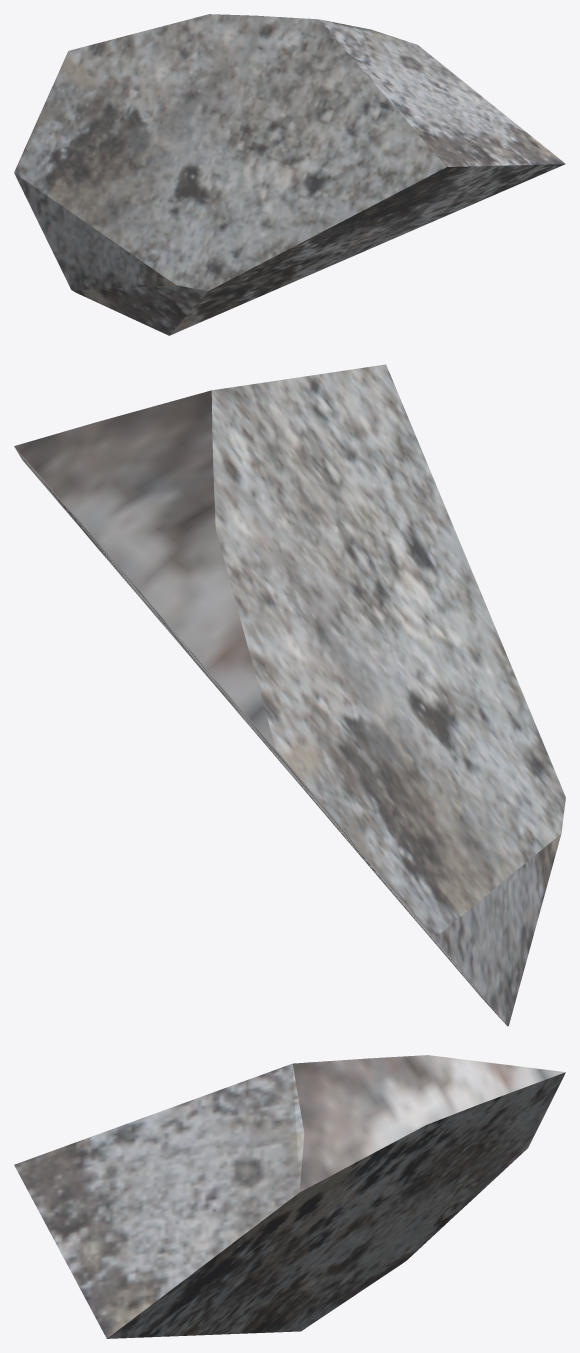
The model's file is Asteroid_Large_001_02_011_03_014.fbx.
The picture shows the model from 3 angles, top to bottom: view 1: azimuth 30°, elevation 25°; view 2: azimuth 150°, elevation 25°; view 3: azimuth 270°, elevation 25°; orthographic projection. The views are drawn at different scales.
Parts seen in each view (by area): view 1: Asteroid_Large_001_02_011_03_014; view 2: Asteroid_Large_001_02_011_03_014; view 3: Asteroid_Large_001_02_011_03_014.
Boxes of the visible parts, x1,y1,x2,y2 form: Asteroid_Large_001_02_011_03_014: [14, 14, 565, 335]; Asteroid_Large_001_02_011_03_014: [14, 364, 565, 1026]; Asteroid_Large_001_02_011_03_014: [14, 1055, 565, 1338].
Size of the model in its own units: 7.19 by 5.05 by 7.07.
